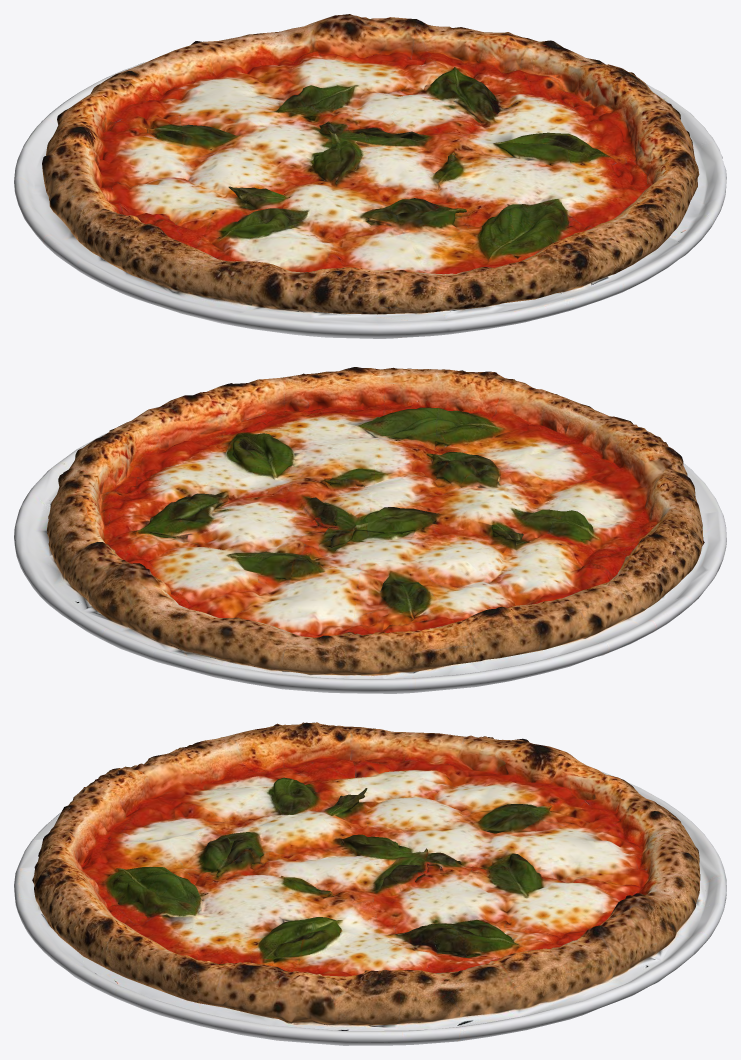
Rendered from margherita-pizza-ar.glb.
3 renders of one model, top to bottom at view 1: azimuth 30°, elevation 25°; view 2: azimuth 150°, elevation 25°; view 3: azimuth 270°, elevation 25°, orthographic.
Parts seen in each view (by area): view 1: mesh_node; view 2: mesh_node; view 3: mesh_node.
Part boxes in pixels (bbox=[...]): mesh_node: bbox=[14, 14, 726, 338]; mesh_node: bbox=[14, 367, 726, 693]; mesh_node: bbox=[14, 722, 726, 1045].
Bounding box in the file's own units: 0.2996 × 0.0311 × 0.3.
Materials: 1 (1 with a texture image).
